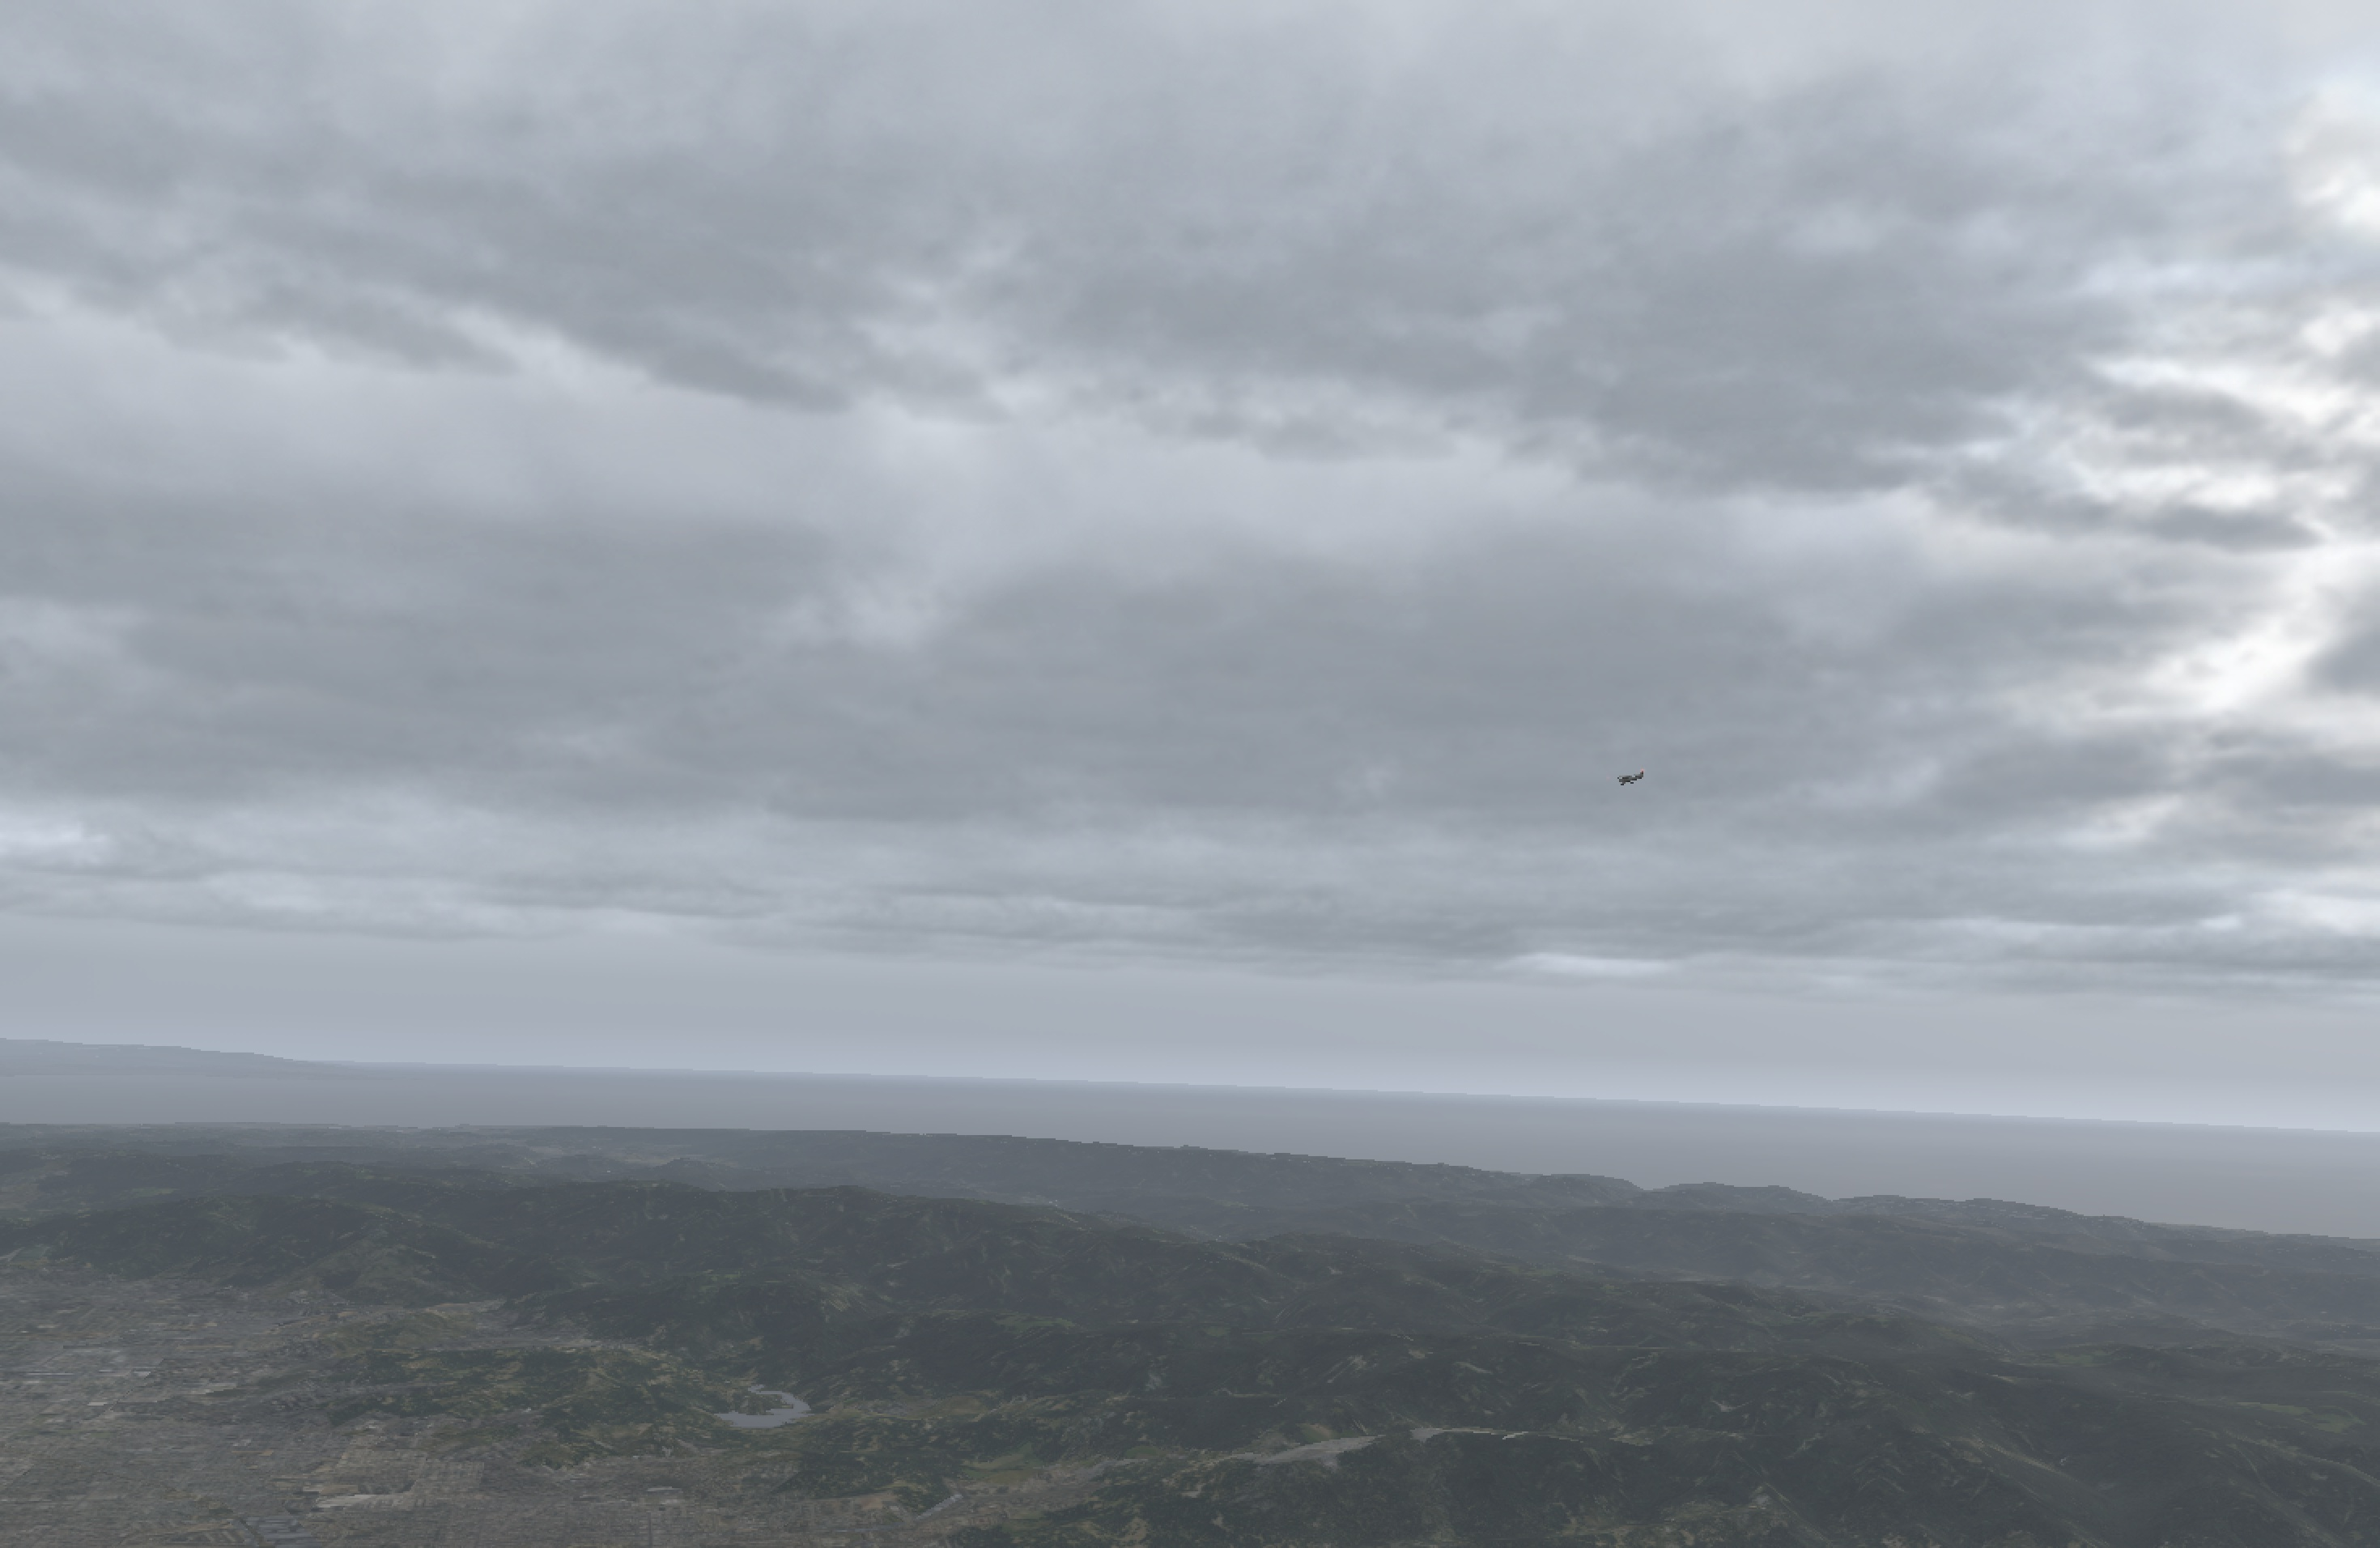aircraft: (1610, 772, 1643, 784)
